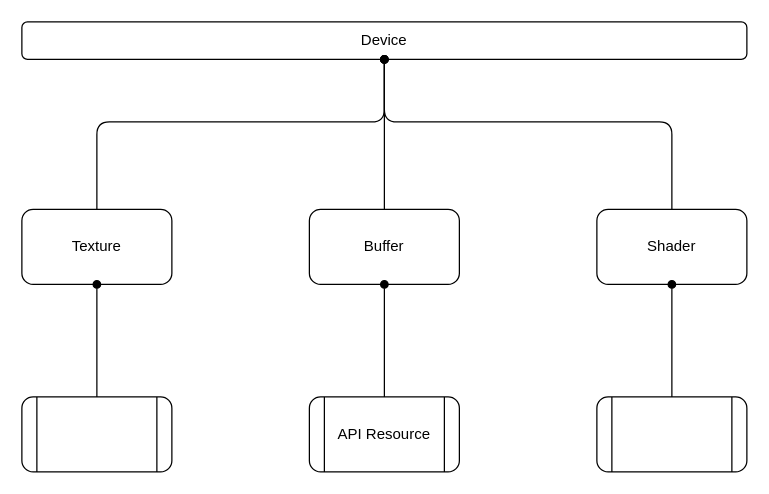
This 769x494 diagram has some shape labels left out. Each missing label, with the centre of its shape:
API Shader: point (671, 434)
API Texture Object: point (96, 434)
